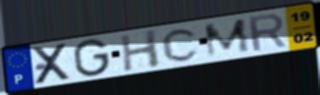C: (160, 27, 201, 63)
G: (72, 37, 112, 78)
H: (118, 28, 162, 73)
M: (202, 16, 253, 60)
R: (246, 12, 289, 54)
X: (31, 41, 74, 87)
